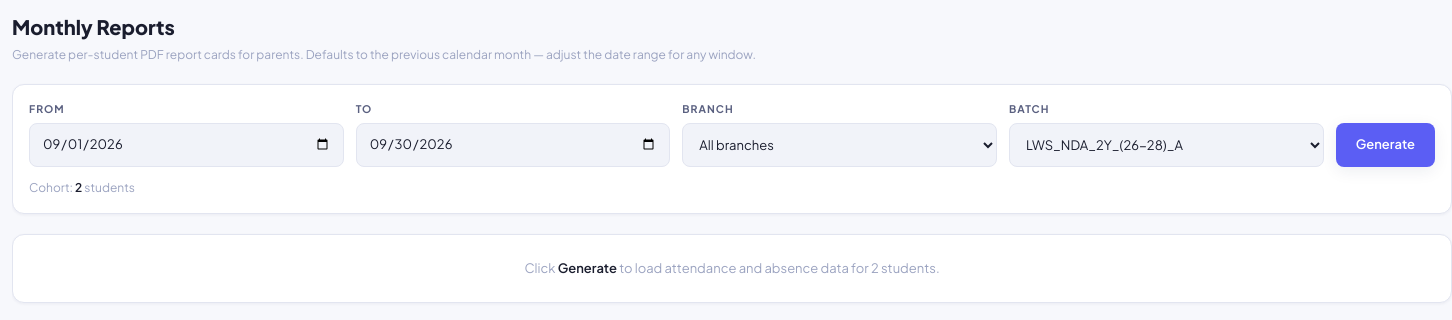
Test: MonthlyReportsPage › disables Generate when no batch is selected
Select "— select —" in the dropdown labelled "Batch" at x=1166, y=145, box [1009, 123, 1324, 167]
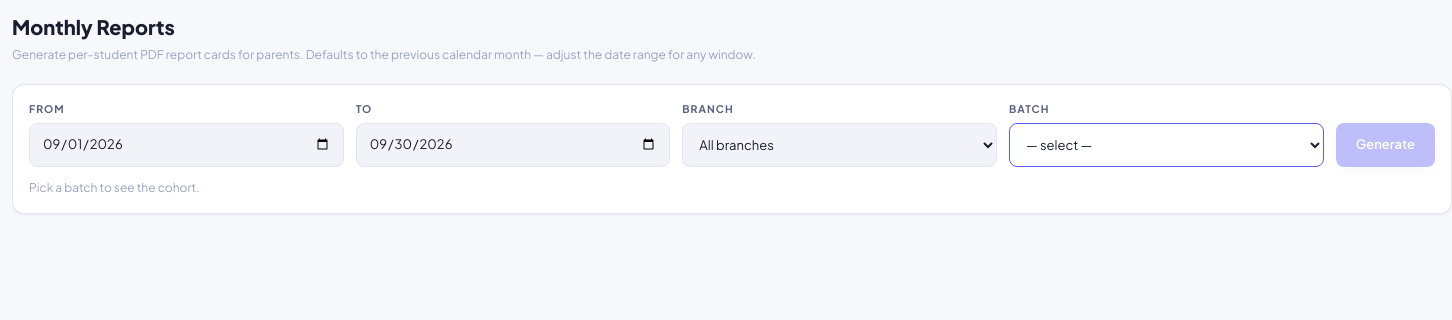
Result: the button "Generate" is disabled at [1336, 123, 1435, 167]
